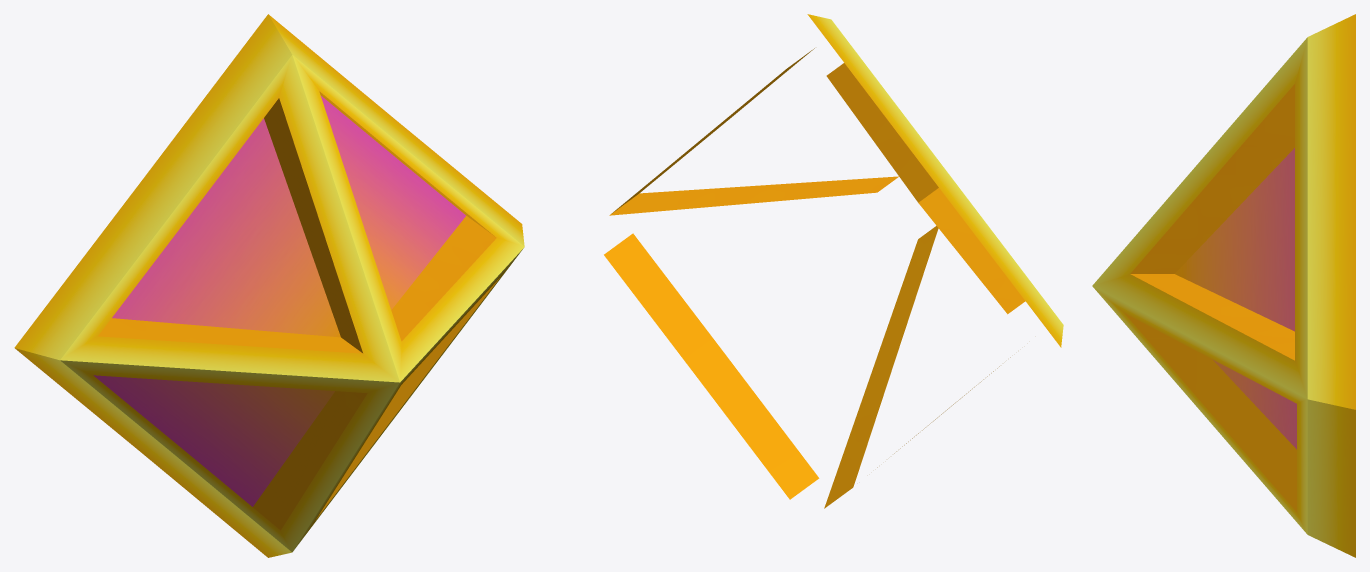
The picture shows the model from 3 angles, left to right: view 1: azimuth 30°, elevation 25°; view 2: azimuth 150°, elevation 25°; view 3: azimuth 270°, elevation 25°; orthographic projection.
Parts seen in each view (by area): view 1: Plane.004; view 2: Plane.004; view 3: Plane.004.
Part boxes in pixels (left/top/right/bottom): Plane.004: left=14, top=14, right=524, bottom=557; Plane.004: left=604, top=14, right=1063, bottom=508; Plane.004: left=1092, top=14, right=1355, bottom=557.
Size of the model in its own units: 1.4 by 1.43 by 0.6277.
1 material, 1 textured.
